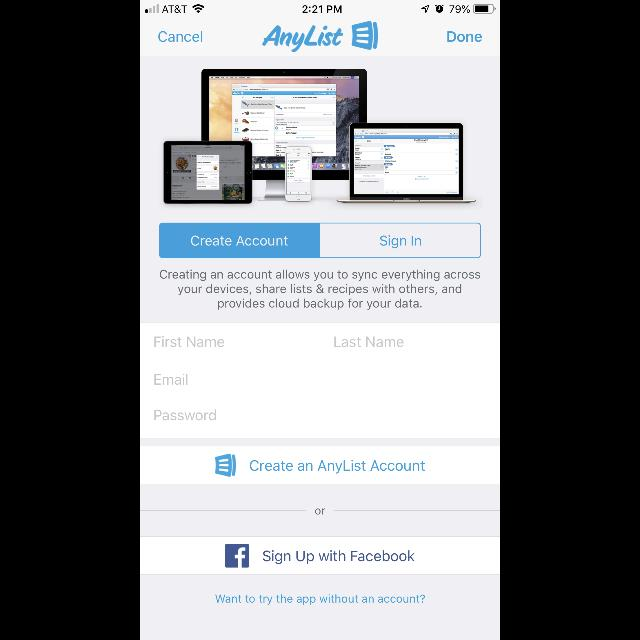icon: (225, 544, 249, 568)
image: (164, 69, 476, 205), (262, 26, 344, 52), (352, 22, 378, 50), (216, 454, 237, 476)
input: (154, 373, 500, 399), (154, 409, 500, 433), (334, 336, 500, 362), (153, 336, 311, 362)
text: (160, 270, 480, 310), (215, 594, 425, 606), (250, 460, 424, 474), (263, 550, 415, 564), (334, 337, 404, 348), (155, 337, 225, 348), (155, 410, 217, 420), (158, 32, 202, 42), (154, 374, 188, 384), (448, 32, 482, 42), (314, 509, 326, 515)
textbutton: (320, 224, 482, 258), (160, 224, 320, 258)
uppertaskbar: (140, 0, 500, 14)
